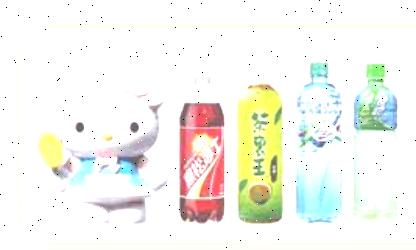Plastic Bottle: (298, 62, 344, 224), (238, 62, 284, 224), (181, 62, 226, 224), (354, 64, 399, 224)
